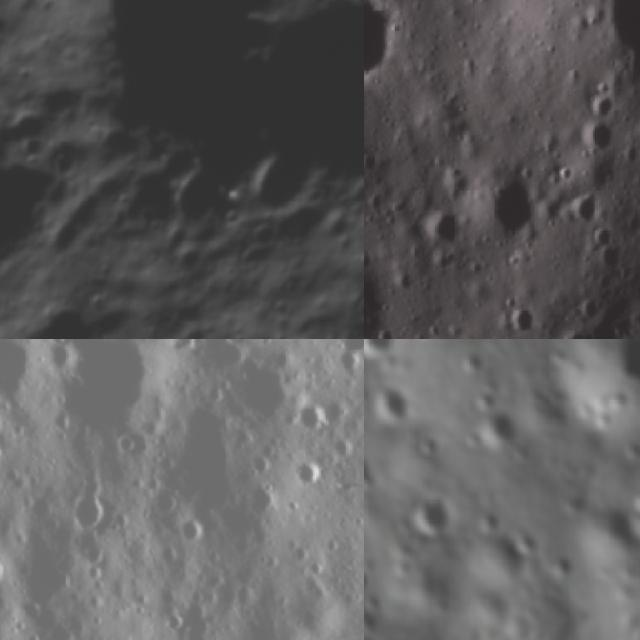crater: (29, 339, 195, 468), (0, 93, 76, 330), (226, 132, 326, 235), (217, 339, 313, 444), (151, 138, 243, 238), (557, 339, 640, 427), (485, 170, 547, 248), (0, 88, 63, 162), (603, 0, 640, 108), (406, 489, 462, 550), (469, 401, 528, 458), (364, 372, 416, 434), (364, 0, 395, 85), (168, 508, 218, 560), (415, 202, 466, 251), (241, 468, 287, 519), (34, 339, 87, 383), (282, 451, 332, 494), (588, 237, 630, 279), (315, 339, 364, 375), (577, 119, 620, 159), (333, 166, 364, 219), (566, 189, 604, 232), (500, 302, 543, 339), (392, 0, 471, 19), (434, 163, 476, 198), (407, 429, 447, 464), (546, 546, 580, 587), (364, 339, 405, 369), (570, 294, 608, 325), (456, 346, 489, 381), (470, 504, 503, 538), (364, 442, 380, 504), (515, 528, 544, 560), (586, 93, 621, 119), (351, 251, 364, 320), (364, 547, 378, 607), (364, 597, 385, 637), (0, 300, 20, 339), (530, 386, 556, 414), (364, 587, 389, 616), (0, 1, 13, 56), (24, 0, 66, 14), (626, 478, 640, 518), (629, 502, 640, 545), (333, 0, 364, 15), (410, 339, 443, 349)
